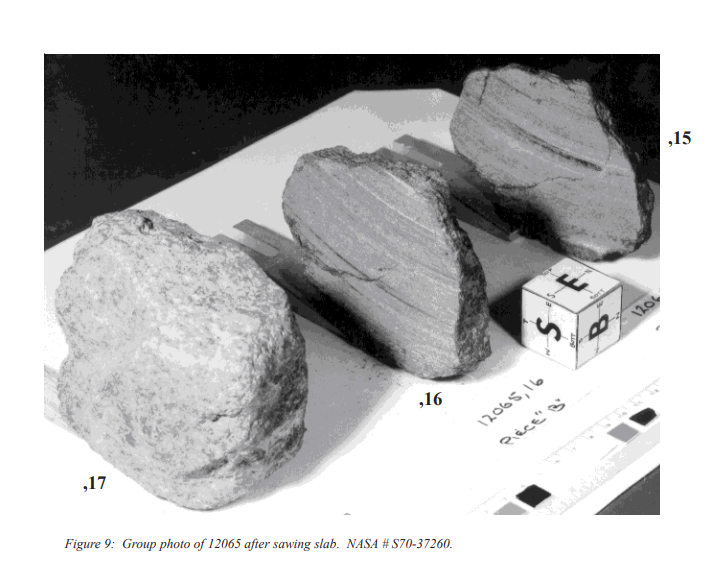Basalt: (51, 195, 324, 529), (278, 126, 511, 380), (453, 56, 657, 256)
